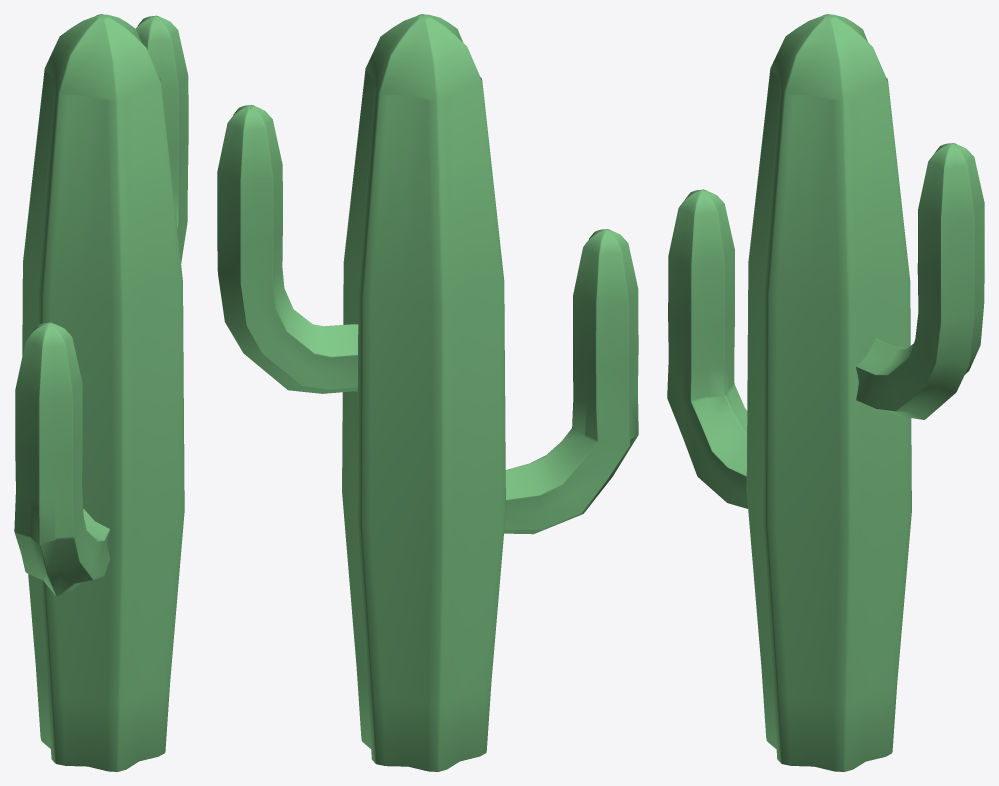
File: Cactus_3.fbx
3 renders of one model, left to right at view 1: azimuth 30°, elevation 25°; view 2: azimuth 150°, elevation 25°; view 3: azimuth 270°, elevation 25°, orthographic.
Parts seen in each view (by area): view 1: cactus_2; view 2: cactus_2; view 3: cactus_2.
Boxes of the visible parts, x1,y1,x2,y2 form: cactus_2: [14, 14, 188, 771]; cactus_2: [217, 14, 638, 771]; cactus_2: [667, 14, 984, 771].
Bounding box in the file's own units: 45.98 × 111 × 43.83.
